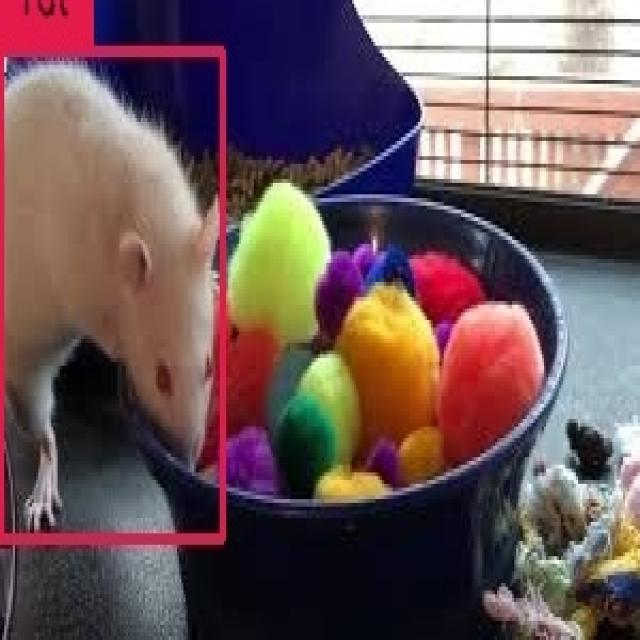rat: (0, 51, 222, 539)
